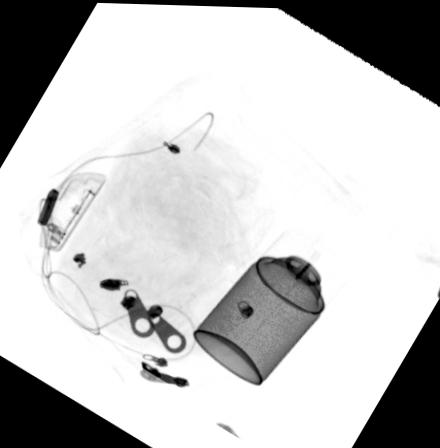Sprayer: (188, 223, 349, 384)
